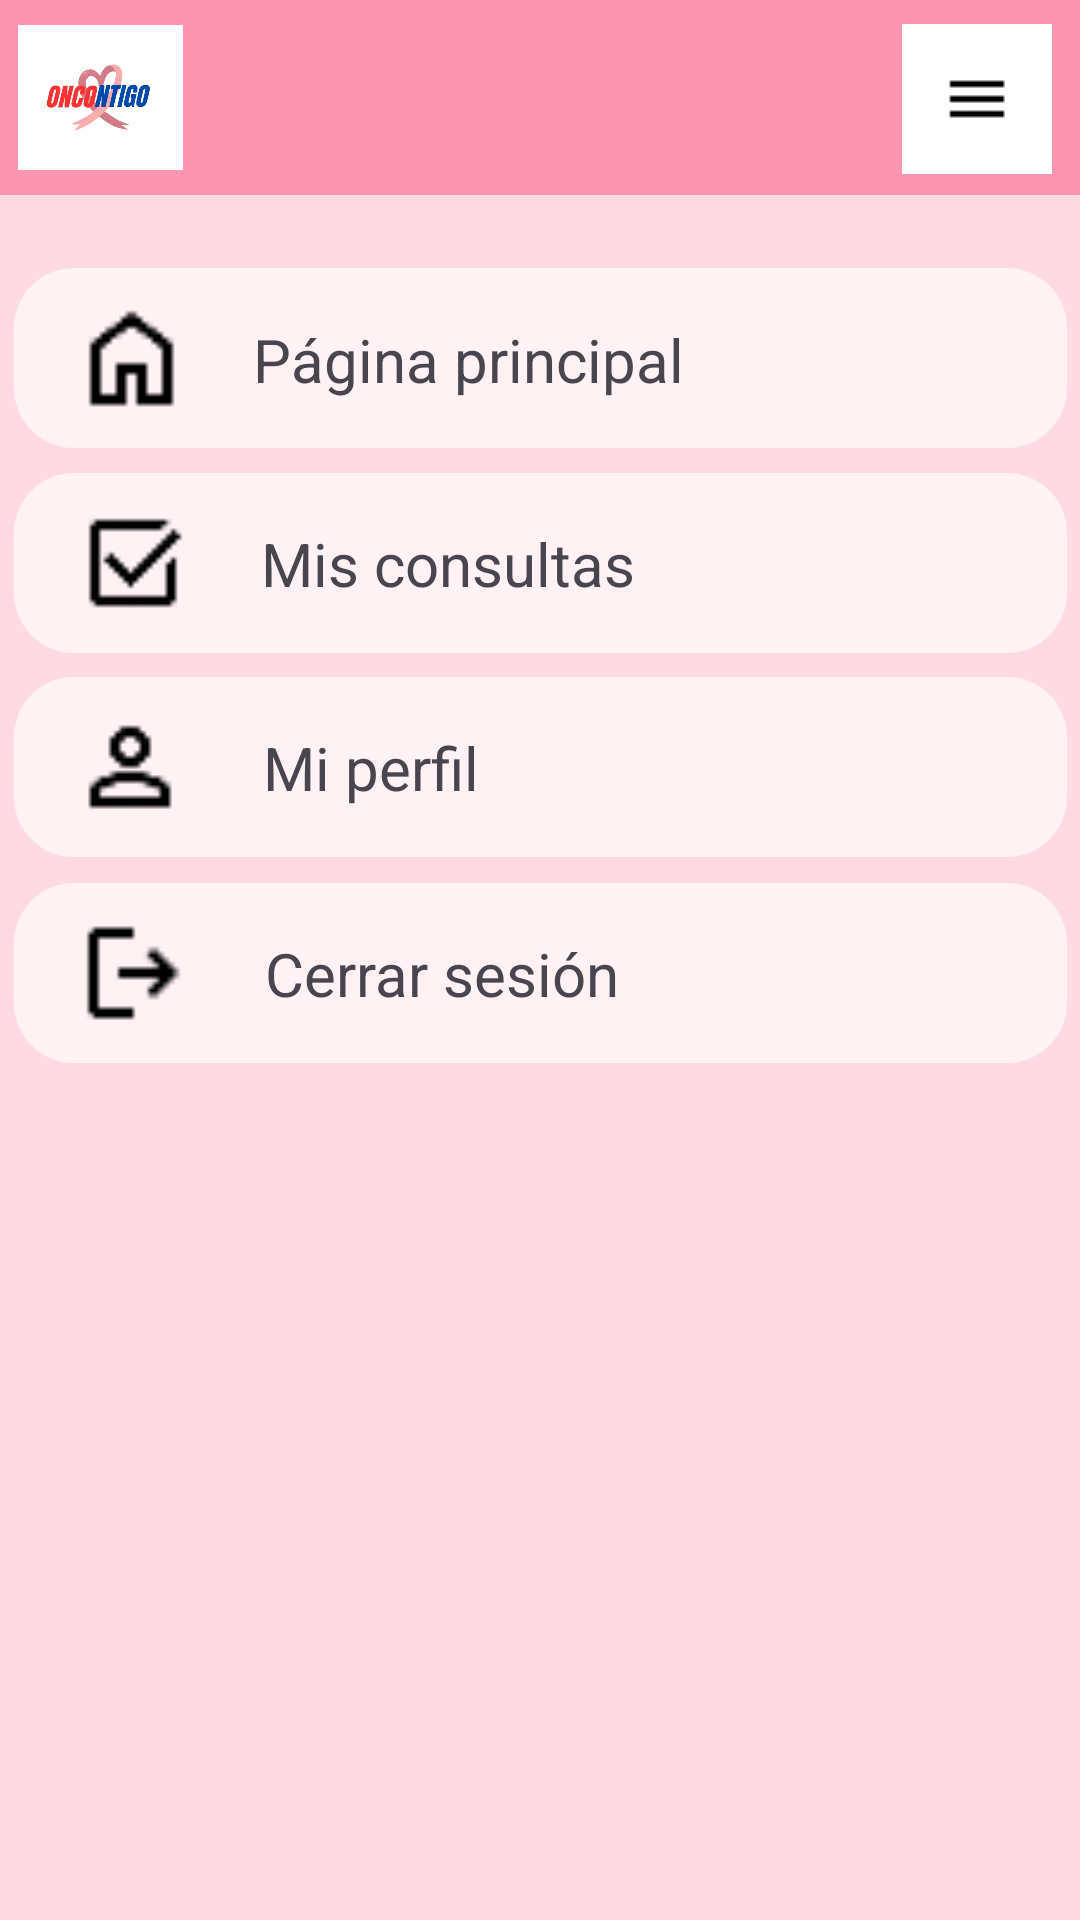

Icons on this 1080 x 1920 Android screen, each with its box as region(x1, y1, x2, y2):
menu: region(902, 24, 1052, 174)
